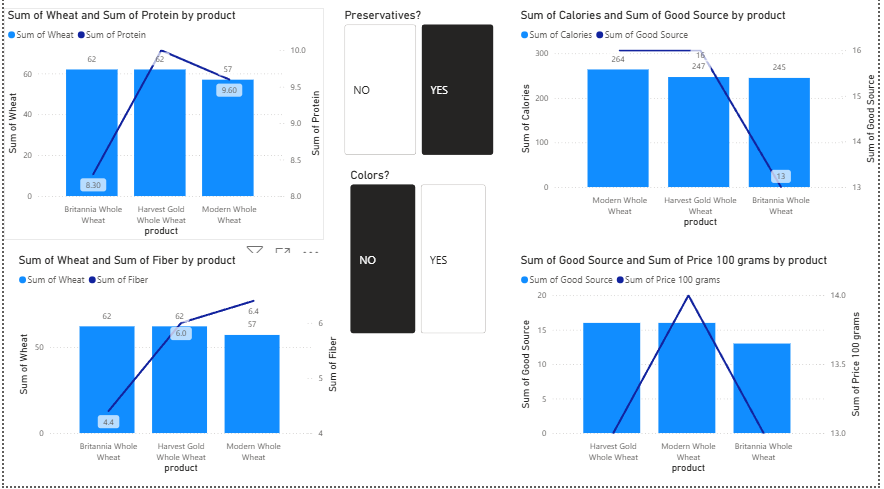

Layout of this report page (visuals, bound fields, positions):
{"tool":"powerbi","page":{"name":"Page 2","canvas":[1280,720],"ordinal":1},"visuals":[{"type":"lineStackedColumnComboChart","fields":{"Category":["Wheat Bread.product"],"Y":["Sum(Wheat Bread.Wheat)"],"Y2":["Sum(Wheat Bread.Protein)"]},"box":[0,20.5,468.3,339.5],"z":0},{"type":"lineStackedColumnComboChart","fields":{"Category":["Wheat Bread.product"],"Y":["Sum(Wheat Bread.Wheat)"],"Y2":["Sum(Wheat Bread.Fiber)"]},"box":[16.1,379,477.1,327.8],"z":1000},{"type":"lineStackedColumnComboChart","fields":{"Category":["Wheat Bread.product"],"Y":["Sum(Wheat Bread.Calories)"],"Y2":["Sum(Wheat Bread.Good Source)"]},"box":[750.7,20.5,529.8,326.3],"z":2000},{"type":"lineStackedColumnComboChart","fields":{"Category":["Wheat Bread.product"],"Y":["Sum(Wheat Bread.Good Source)"],"Y2":["Sum(Wheat Bread.Price 100 grams)"]},"box":[750.7,379,507.8,327.8],"z":3000},{"type":"advancedSlicerVisual","fields":{"Values":["Wheat Bread.Preservatives?"]},"box":[493.2,20.5,228.3,221],"z":4000},{"type":"advancedSlicerVisual","fields":{"Values":["Wheat Bread.Colors?"]},"box":[502,254.6,209.3,247.3],"z":5000}]}

Visuals, with their boxes in screenshot pixels (x1, y1, x2, y2), scaled from the page's 1280x720 canvas onto the 884x489 screenshot:
lineStackedColumnComboChart - Wheat Bread.product x Sum(Wheat Bread.Wheat): [0,14,323,244]
lineStackedColumnComboChart - Wheat Bread.product x Sum(Wheat Bread.Wheat): [11,257,341,480]
lineStackedColumnComboChart - Wheat Bread.product x Sum(Wheat Bread.Calories): [518,14,883,236]
lineStackedColumnComboChart - Wheat Bread.product x Sum(Wheat Bread.Good Source): [518,257,869,480]
advancedSlicerVisual - Wheat Bread.Preservatives?: [341,14,498,164]
advancedSlicerVisual - Wheat Bread.Colors?: [347,173,491,341]
